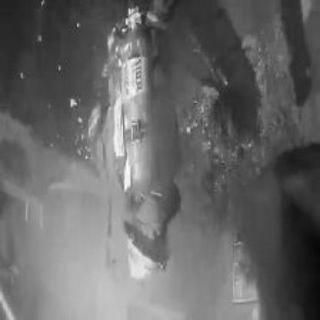other: (118, 234, 165, 282)
